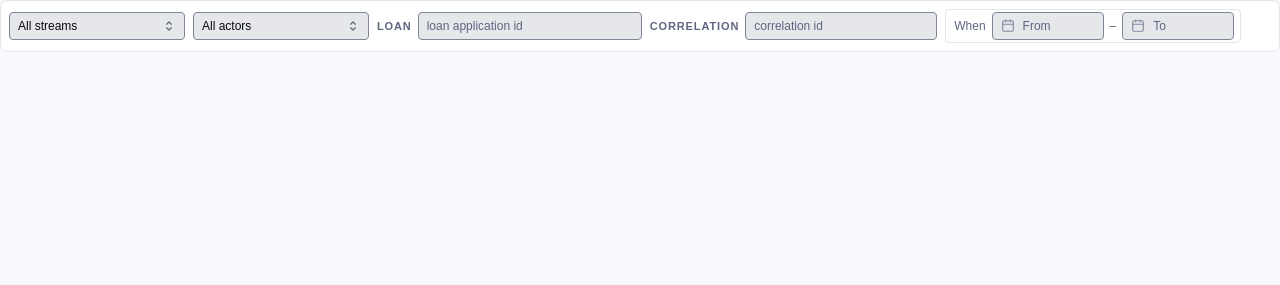
Scenario: AuditPageFilterBar › announces the stream control as a collapsed combobox that owns its list
Step 1. Click the dropdown named "Stream filter" → [97, 26], box [9,12,185,40]
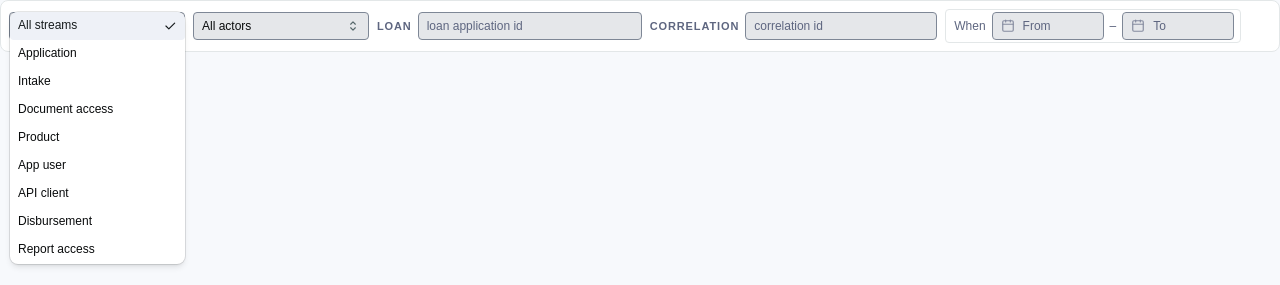
Result: the dropdown named "Stream filter" is expanded at [9,12,185,40]
